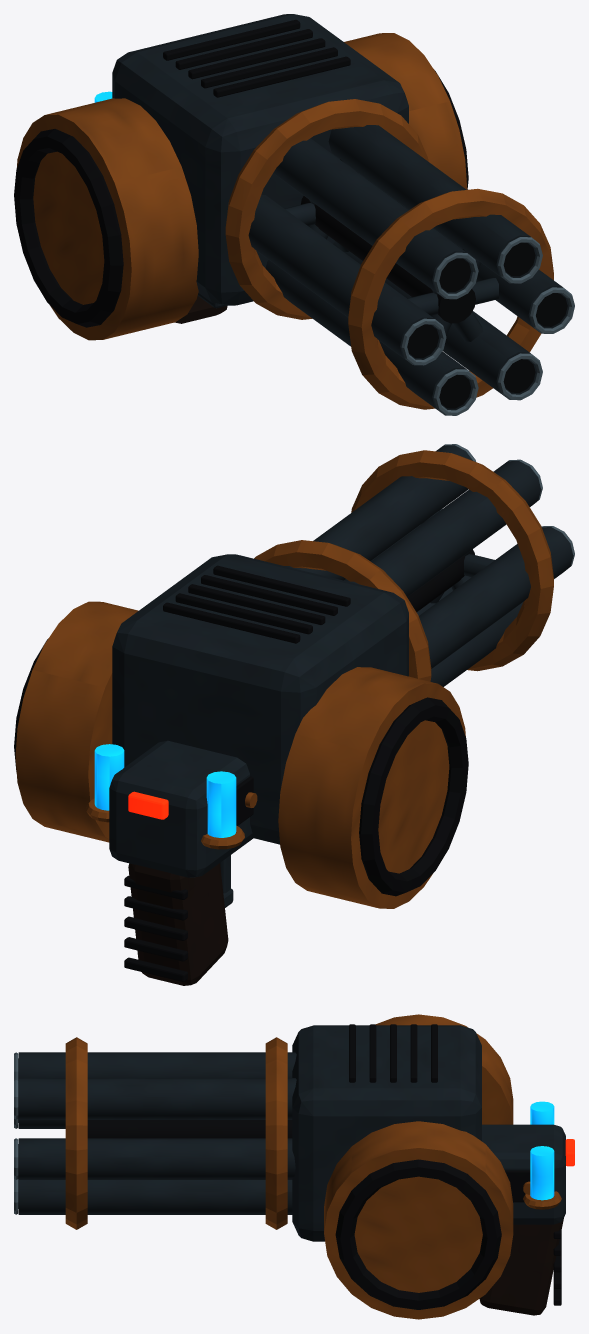
The model's file is pickup_chaingun.glb.
The picture shows the model from 3 angles, top to bottom: view 1: azimuth 30°, elevation 25°; view 2: azimuth 150°, elevation 25°; view 3: azimuth 270°, elevation 25°; orthographic projection. The views are drawn at different scales.
Visible parts, largest first — view 1: weapon, barrels; view 2: weapon, barrels; view 3: weapon, barrels.
Boxes of the visible parts, bbox=[...] form: weapon: bbox=[14, 14, 468, 340]; barrels: bbox=[225, 99, 574, 415]; weapon: bbox=[14, 554, 468, 985]; barrels: bbox=[254, 444, 574, 686]; weapon: bbox=[292, 1014, 574, 1319]; barrels: bbox=[14, 1037, 296, 1229].
Size of the model in its own units: 0.6412 by 0.55 by 1.07.
Materials: 7 (7 with a texture image).
